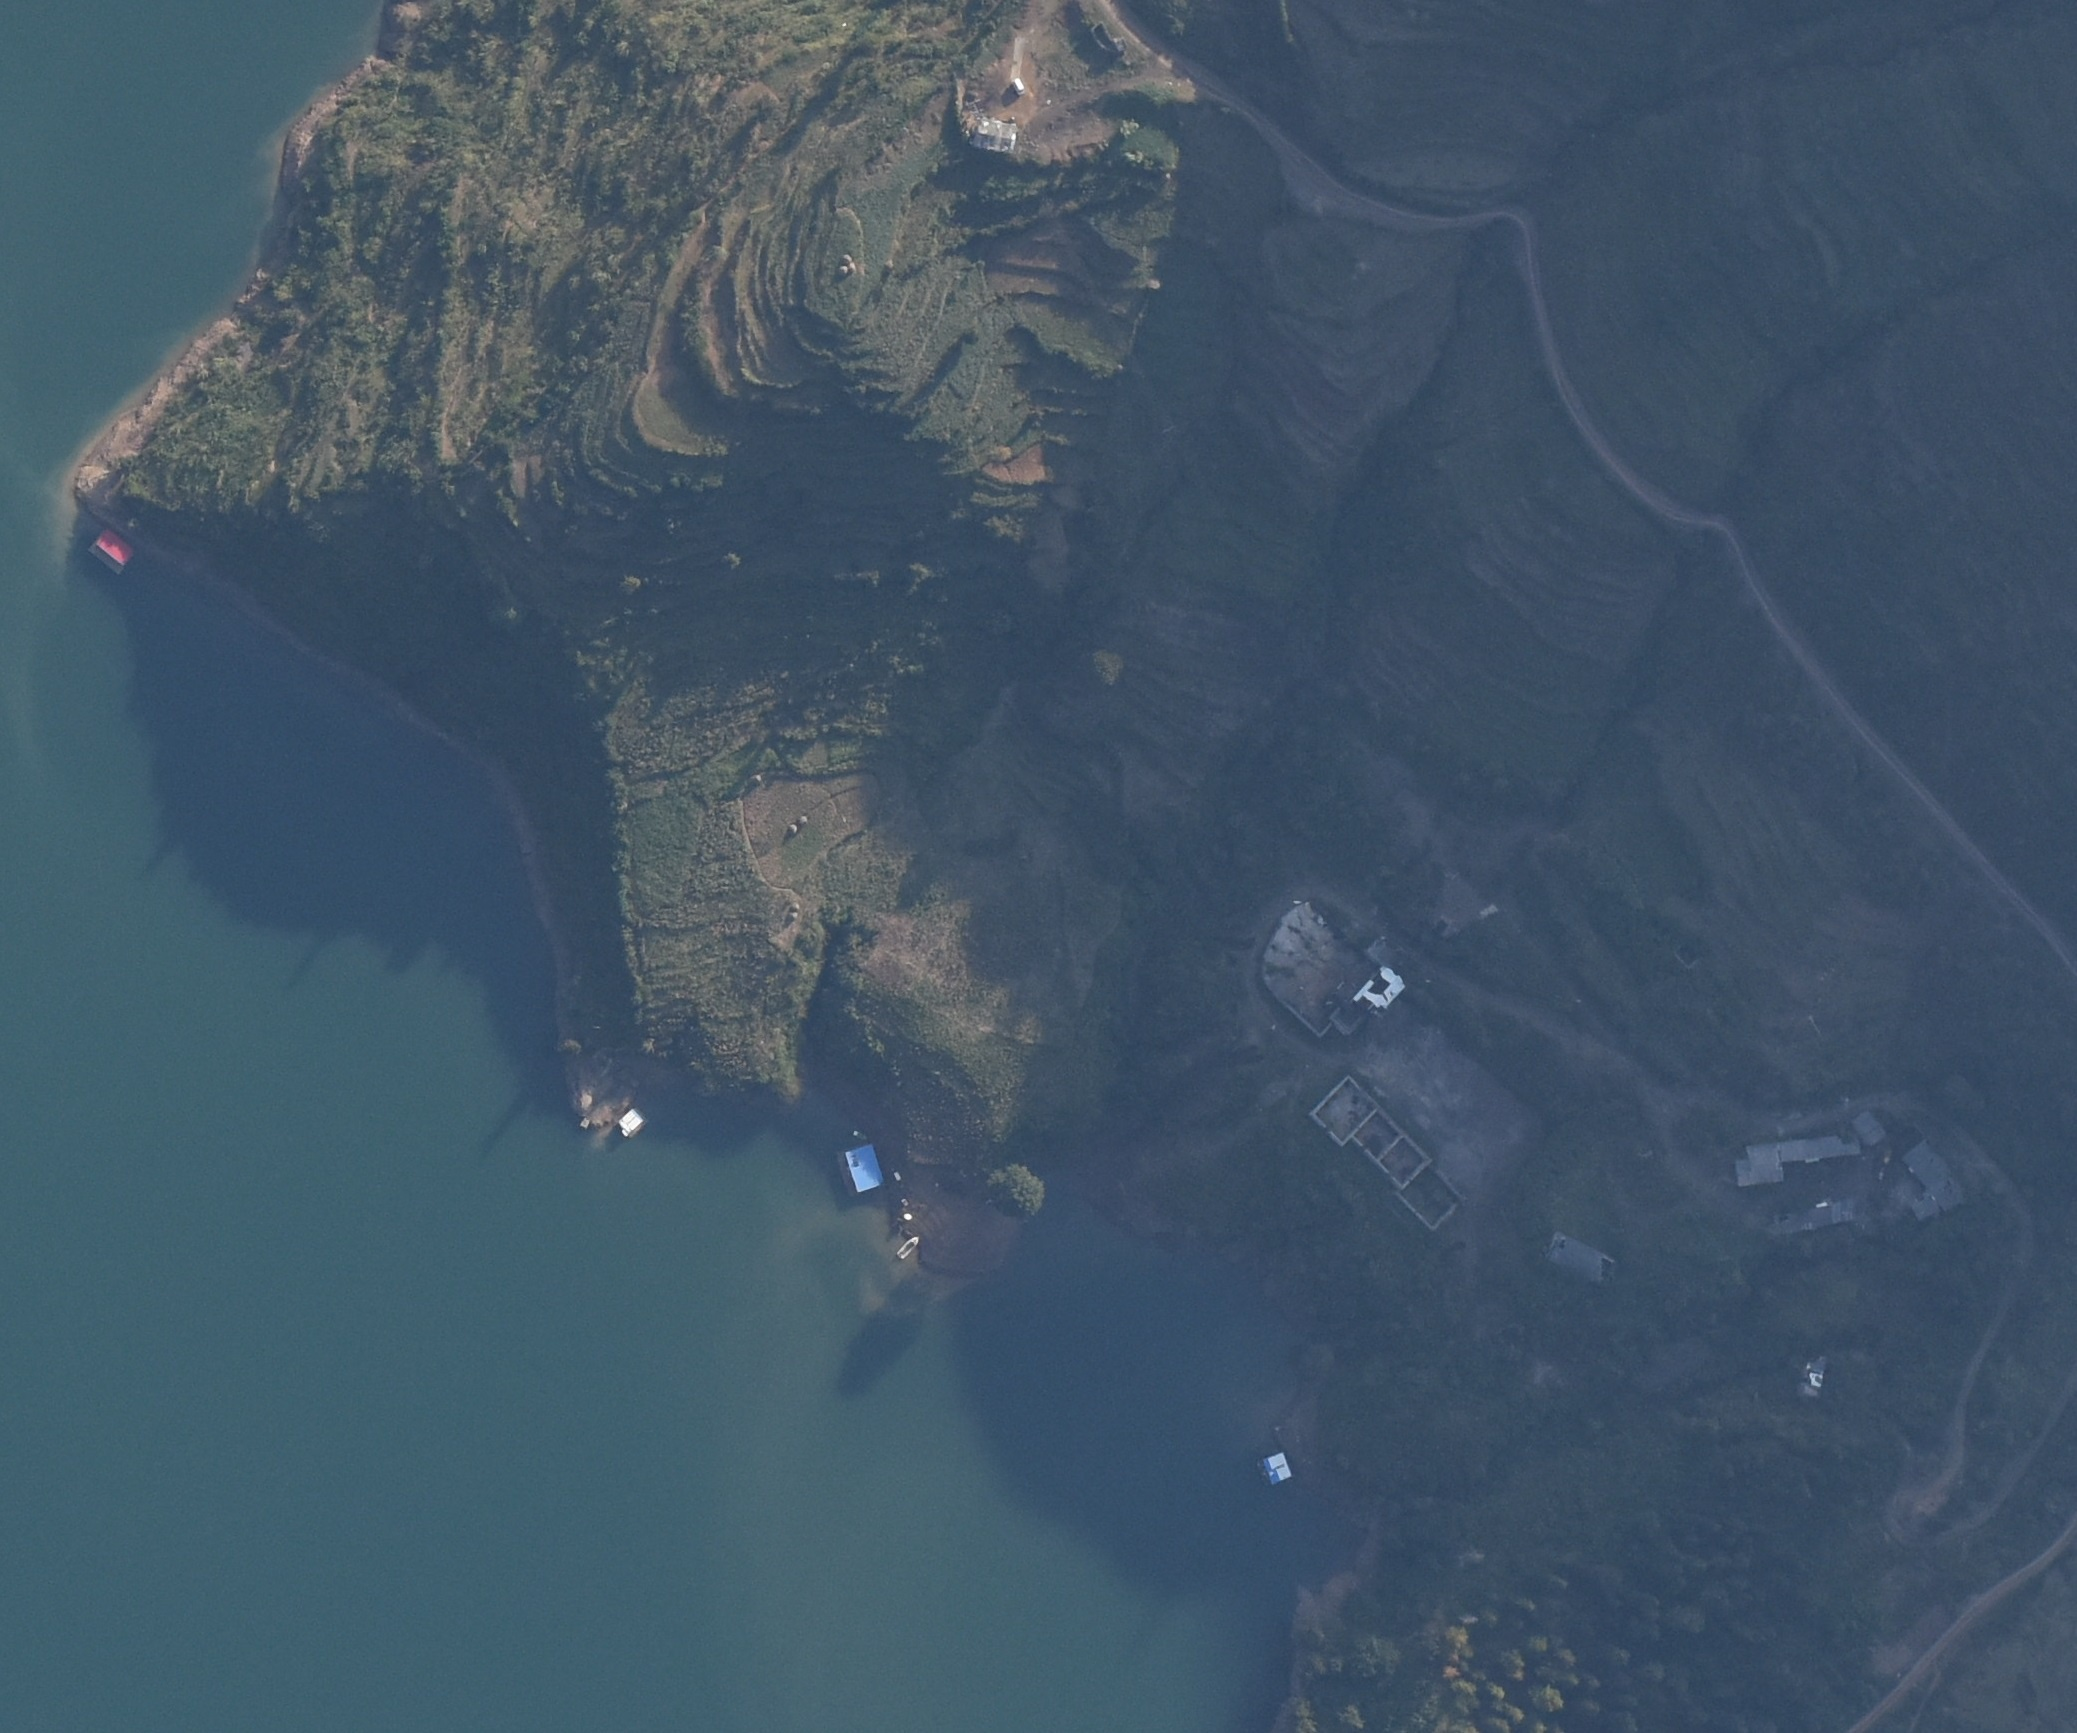building: (1308, 1073, 1461, 1235), (1730, 1136, 1856, 1188), (1903, 1140, 1967, 1216), (1540, 1231, 1616, 1283), (1347, 962, 1409, 1017), (1768, 1195, 1858, 1233), (971, 116, 1018, 148), (1798, 1352, 1825, 1397), (1854, 1109, 1887, 1145)
prefabricated-house: (88, 524, 135, 572), (842, 1142, 885, 1193), (618, 1107, 649, 1142), (1261, 1454, 1290, 1486)
ship: (894, 1236, 919, 1261)
vehicle: (1007, 76, 1028, 95)
